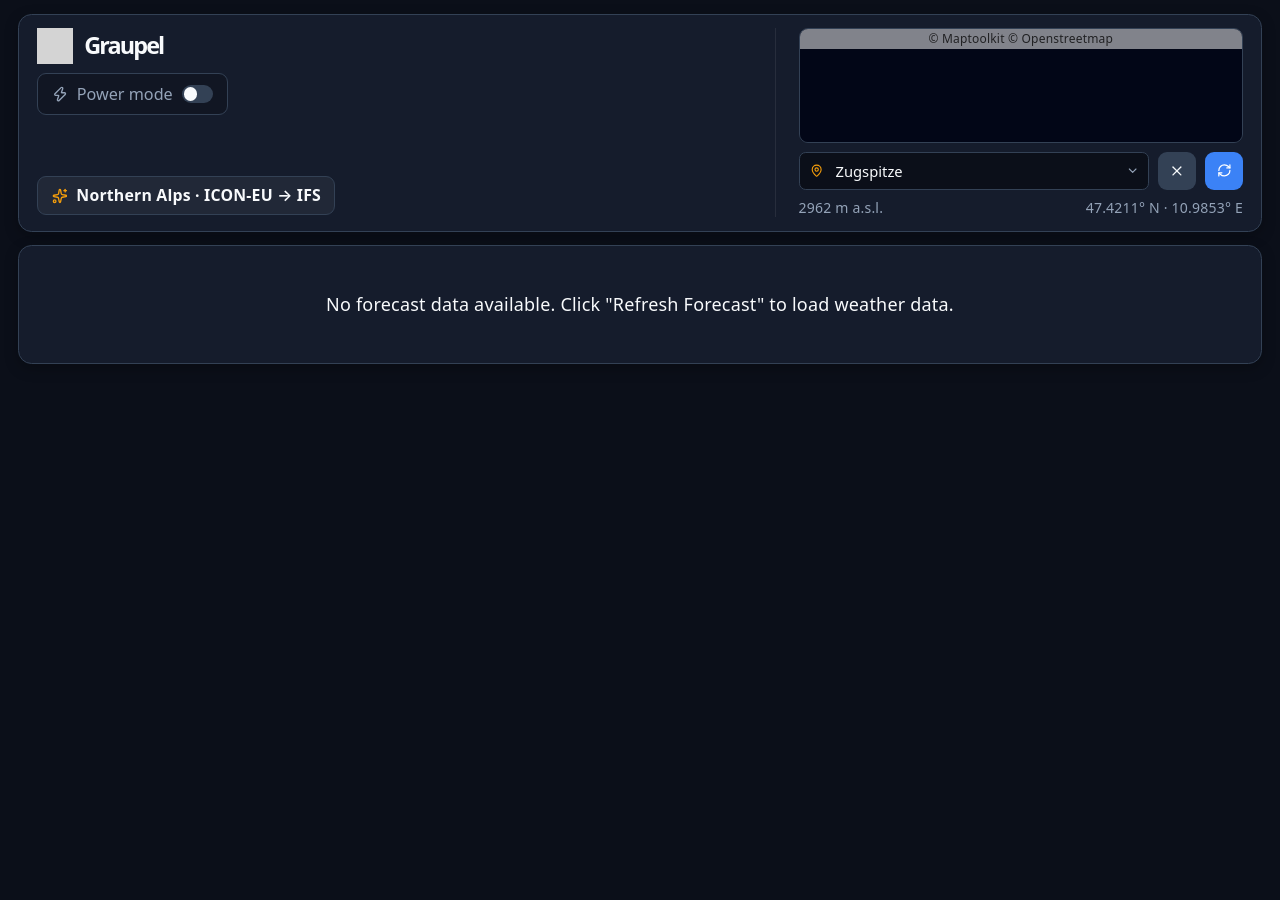
Test case: Auto entry in power mode (spec §16.4, #165) › is selected when switching from normal to power mode
Step 1. Click the button with test id "power-mode-toggle" → click(132, 94), box [37, 73, 228, 115]
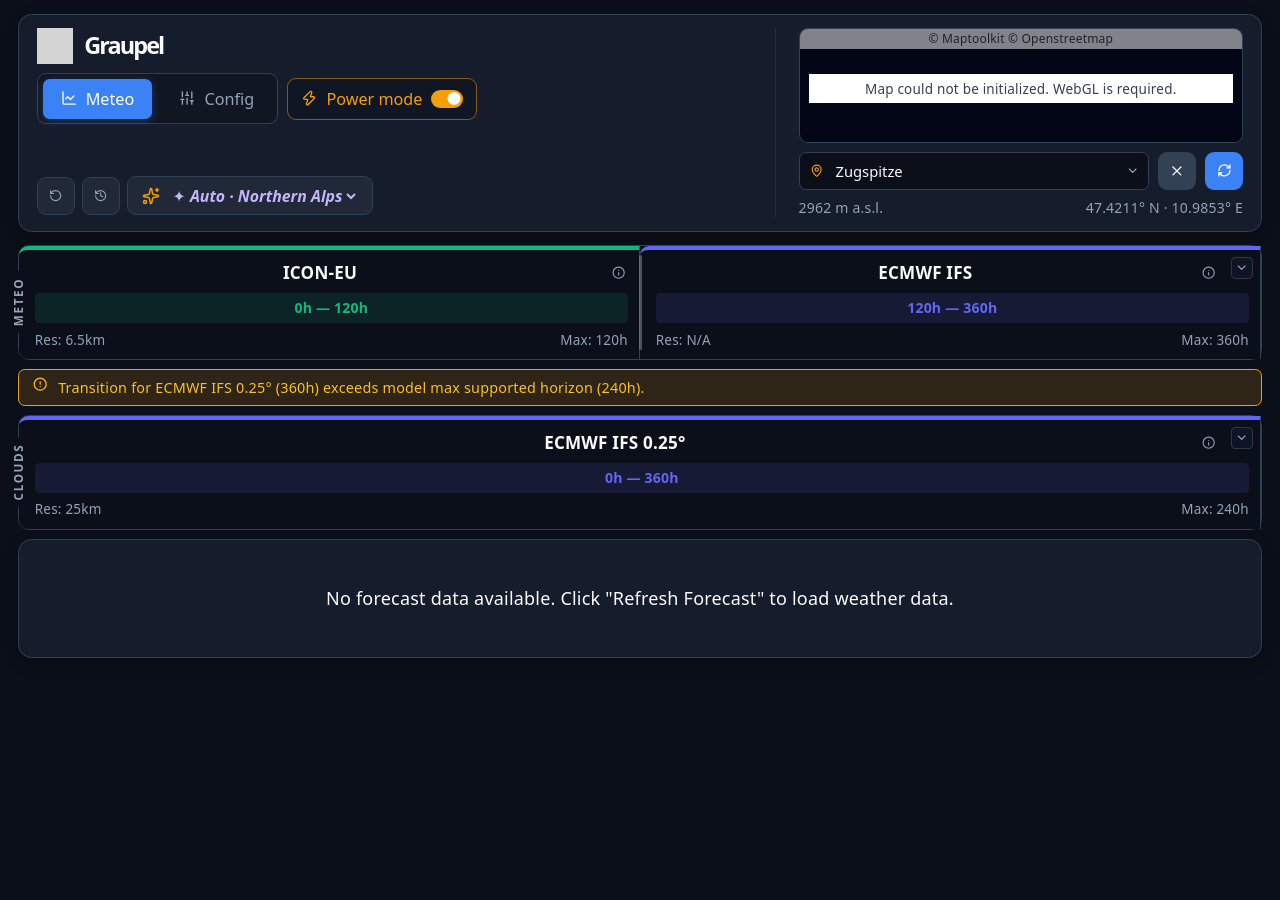
Result: the dropdown with class "config-select-dropdown" shows "✦ Auto · Northern Alps" at [168, 184, 358, 208]
